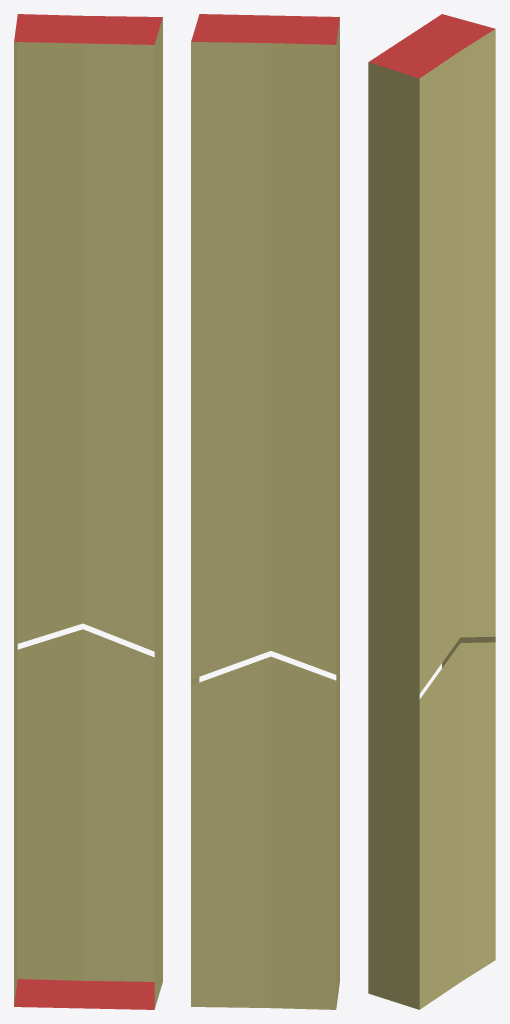
The picture shows the model from 3 angles, left to right: view 1: azimuth 30°, elevation 25°; view 2: azimuth 210°, elevation 25°; view 3: azimuth 270°, elevation 25°; orthographic projection. The views are drawn at different scales.
Visible parts, largest first — view 1: group_4, group_3, group_5; view 2: group_4, group_3; view 3: group_4, group_3.
Boxes of the visible parts, x1,y1,x2,y2 form: group_4: (14, 17, 162, 1008); group_3: (14, 14, 162, 44); group_5: (14, 979, 154, 1009); group_4: (191, 18, 339, 1009); group_3: (191, 14, 339, 44); group_4: (368, 29, 495, 1009); group_3: (368, 14, 495, 78).
Bounding box in the file's own units: 2.48 × 2.07 × 16.68.
